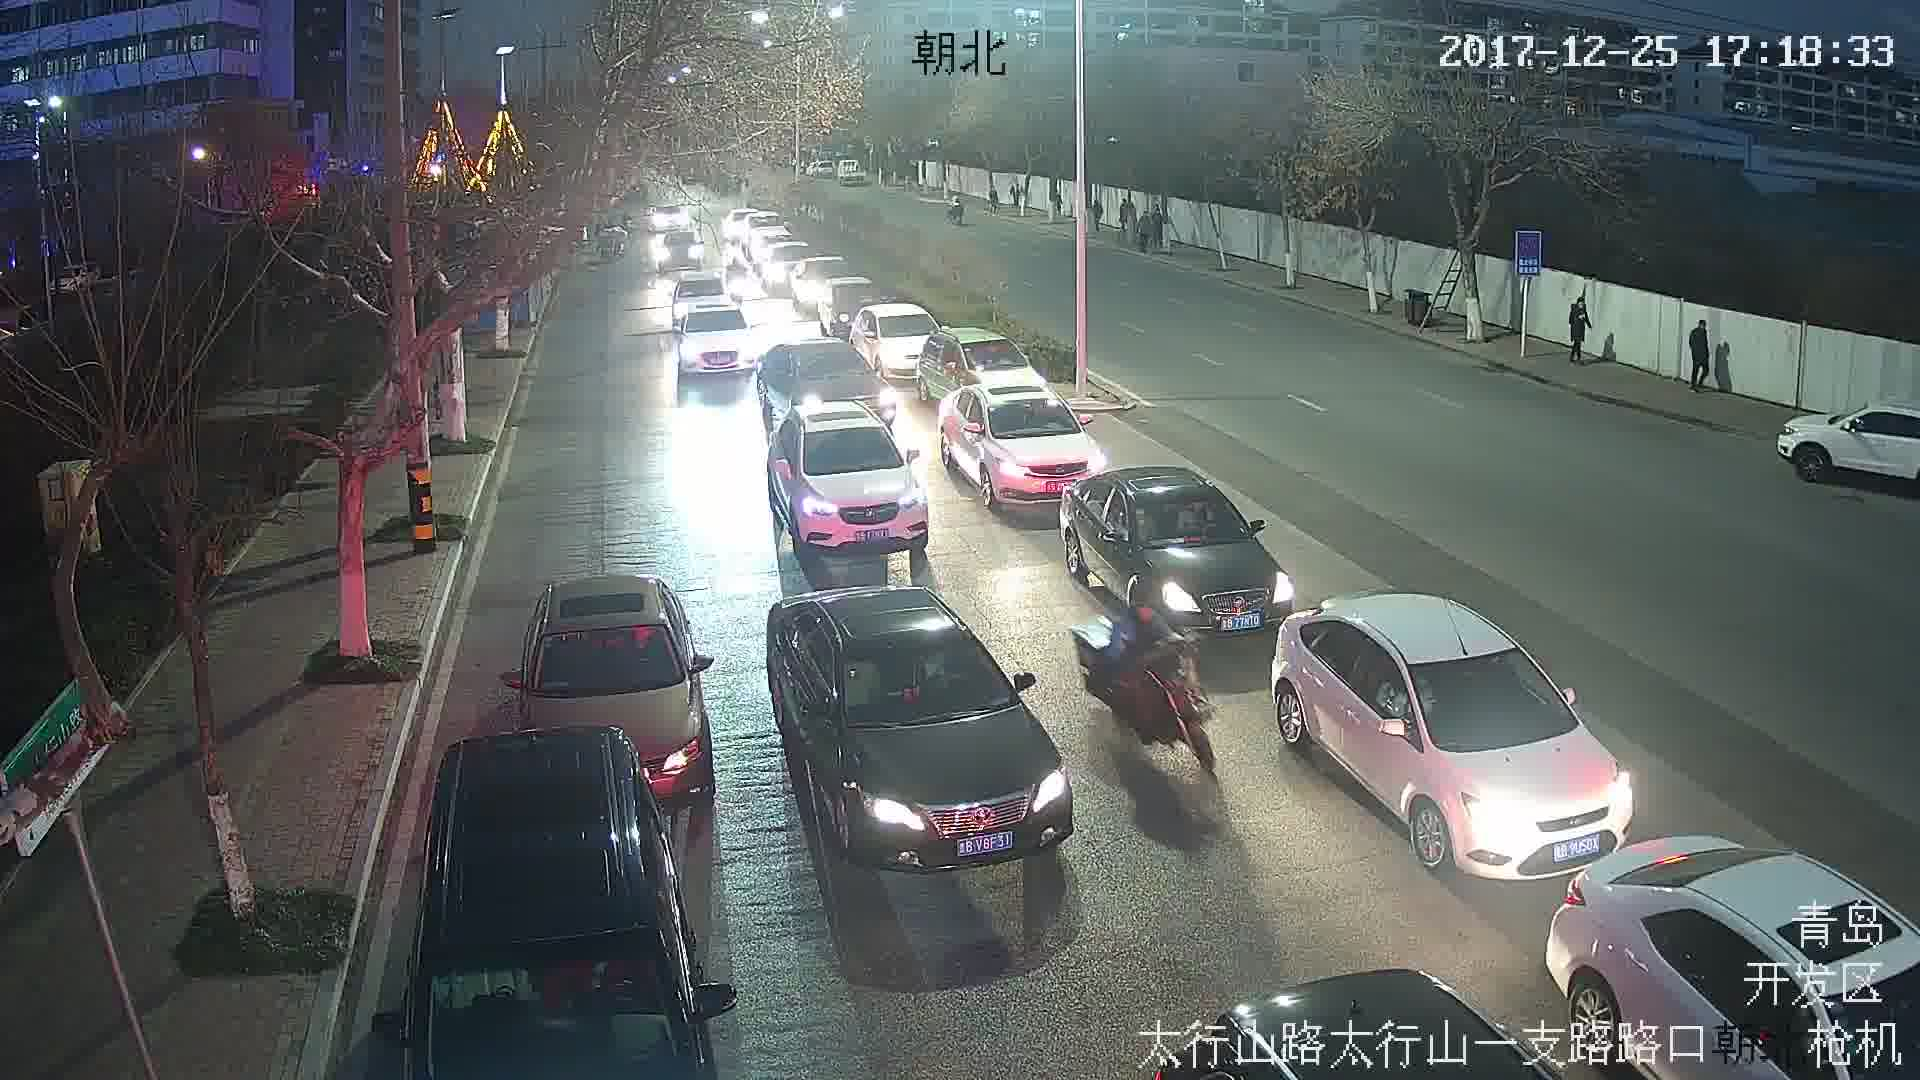car: (1267, 594, 1631, 882), (767, 592, 1071, 870), (502, 577, 720, 805), (1056, 463, 1299, 637), (764, 399, 931, 550), (938, 388, 1106, 509), (675, 306, 753, 380)
person: (1107, 600, 1177, 685), (1567, 288, 1588, 366), (1689, 320, 1709, 394)
